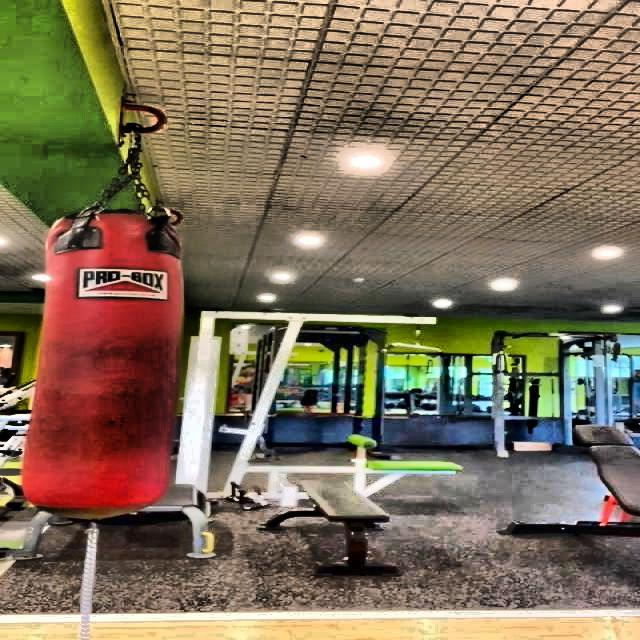boxing-bag: (31, 101, 186, 525)
